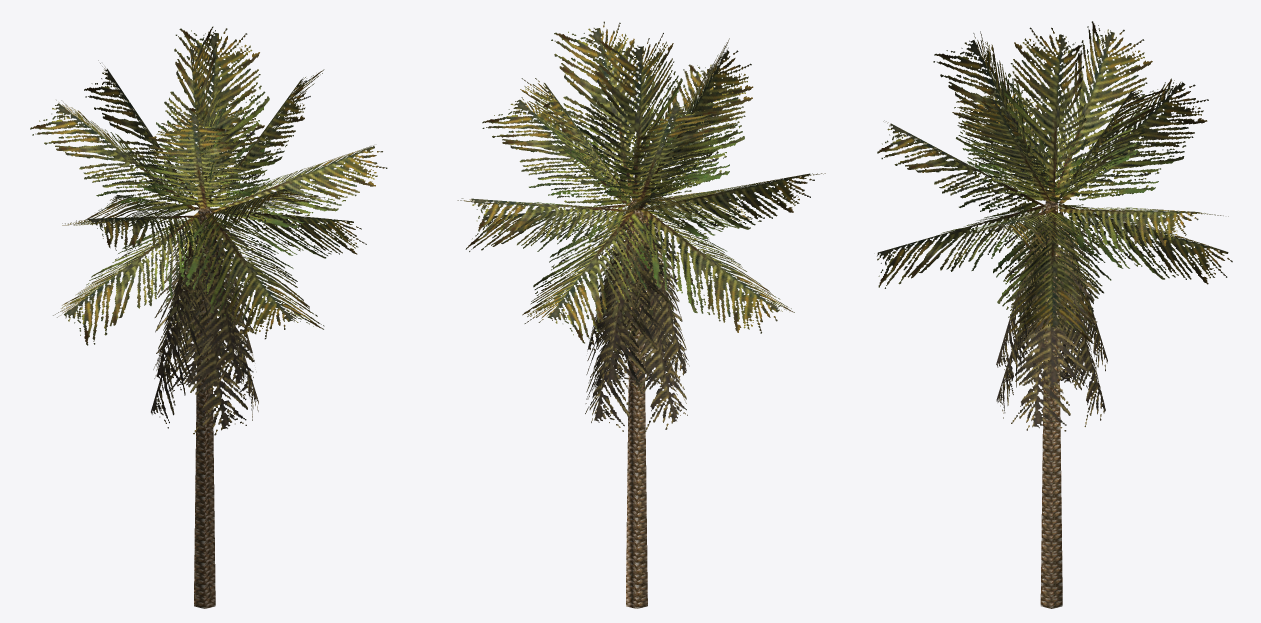
3 renders of one model, left to right at view 1: azimuth 30°, elevation 25°; view 2: azimuth 150°, elevation 25°; view 3: azimuth 270°, elevation 25°, orthographic.
Parts seen in each view (by area): view 1: _Dp03; view 2: _Dp03; view 3: _Dp03.
Boxes of the visible parts, bbox=[...] form: _Dp03: bbox=[30, 26, 387, 608]; _Dp03: bbox=[457, 21, 825, 608]; _Dp03: bbox=[877, 21, 1232, 608].
Size of the model in its own units: 8.45 by 13.12 by 7.83.
Materials: 2 (2 with a texture image).
